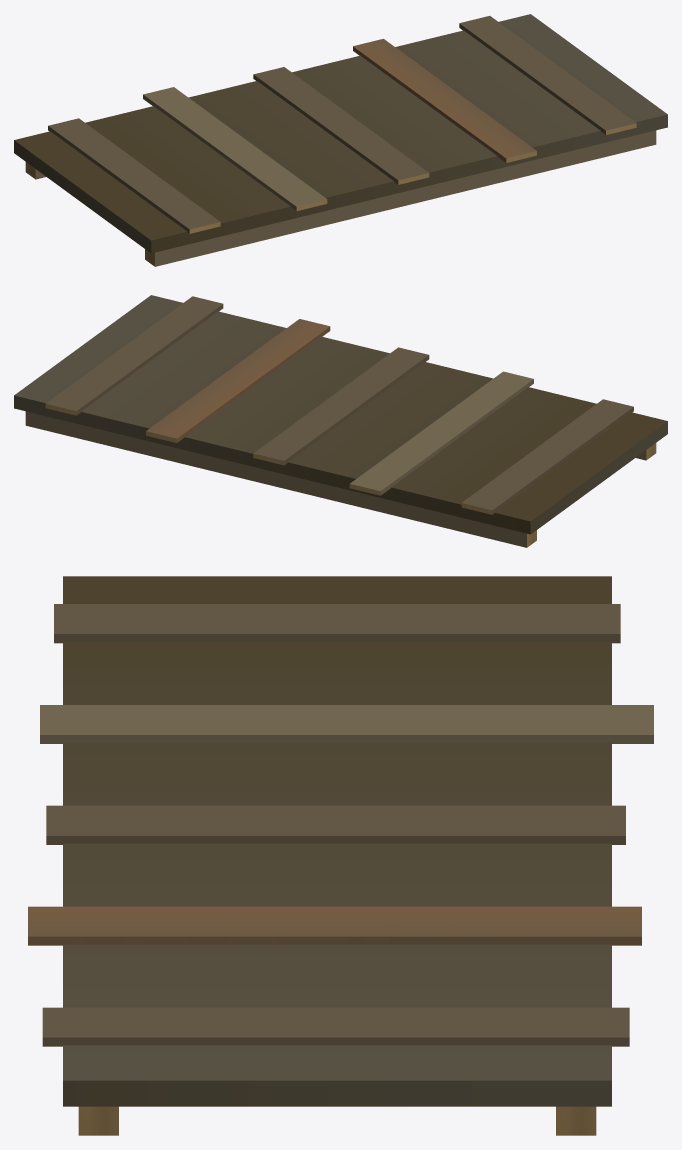
The model's file is Wood_Stairs_1.fbx.
The picture shows the model from 3 angles, top to bottom: view 1: azimuth 30°, elevation 25°; view 2: azimuth 150°, elevation 25°; view 3: azimuth 270°, elevation 25°; orthographic projection. The views are drawn at different scales.
Parts seen in each view (by area): view 1: polySurface9793; view 2: polySurface9793; view 3: polySurface9793.
Boxes of the visible parts, left/top/right/bottom form: polySurface9793: left=14, top=14, right=667, bottom=266; polySurface9793: left=14, top=295, right=667, bottom=547; polySurface9793: left=28, top=576, right=653, bottom=1135.
Size of the model in its own units: 450 by 29.16 by 236.
